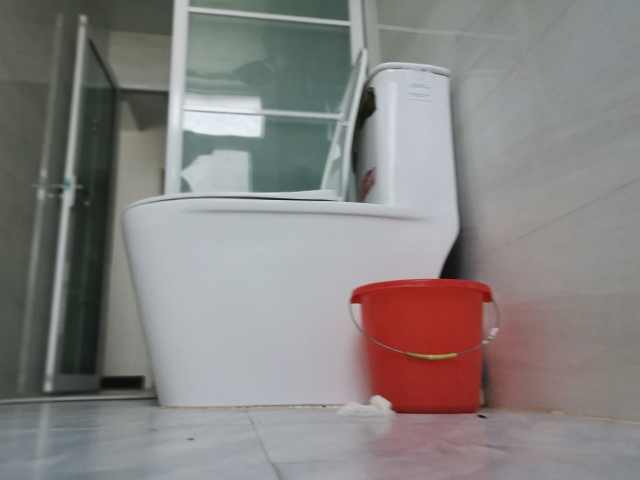closestool: (117, 46, 462, 410)
